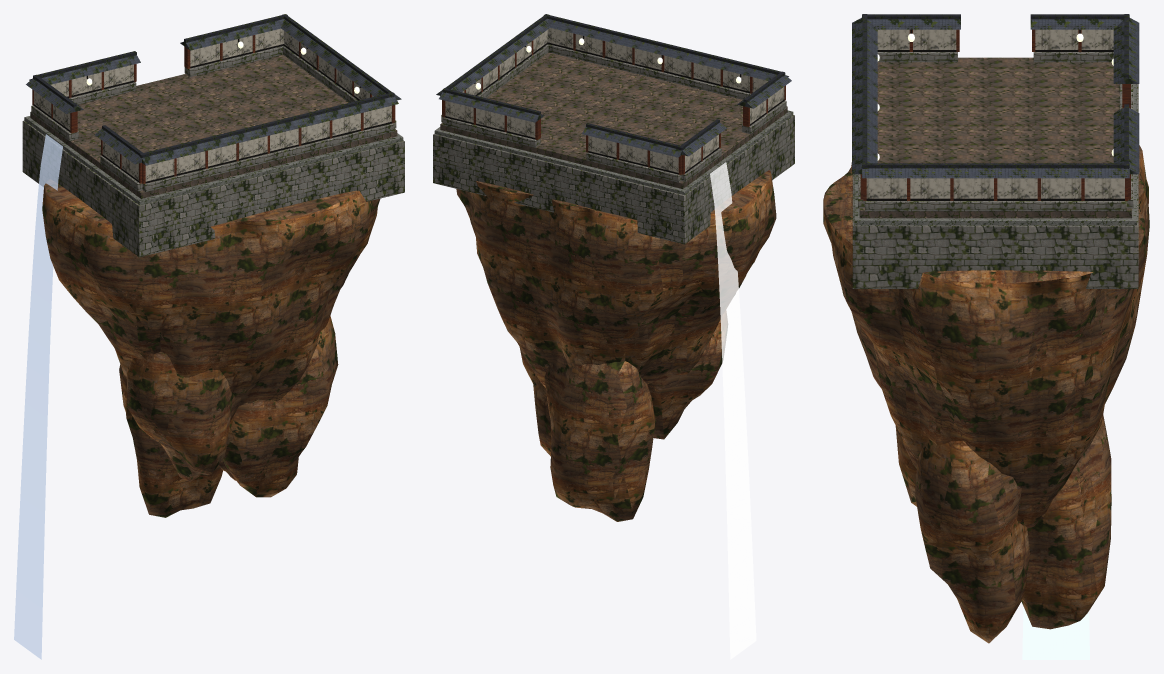
Rendered from Room_CombatA.fbx.
3 renders of one model, left to right at view 1: azimuth 30°, elevation 25°; view 2: azimuth 150°, elevation 25°; view 3: azimuth 270°, elevation 25°, orthographic. The views are drawn at different scales.
Parts seen in each view (by area): view 1: CombatA_Rock_LOD0, CombatA_Structure_LOD0, Waterfall_5; view 2: CombatA_Rock_LOD0, CombatA_Structure_LOD0, Waterfall_5; view 3: CombatA_Rock_LOD0, CombatA_Structure_LOD0, Waterfall_5.
Part boxes in pixels (x1,y1,x2,y2): CombatA_Rock_LOD0: (42, 179, 380, 517); CombatA_Structure_LOD0: (22, 14, 404, 257); Waterfall_5: (14, 134, 62, 659); CombatA_Rock_LOD0: (456, 170, 776, 521); CombatA_Structure_LOD0: (433, 14, 794, 244); Waterfall_5: (710, 162, 756, 659); CombatA_Rock_LOD0: (823, 145, 1149, 643); CombatA_Structure_LOD0: (852, 14, 1139, 288); Waterfall_5: (1022, 606, 1089, 659).
Size of what is drawn, in the model's own units: 29.88 by 48.65 by 21.59.
